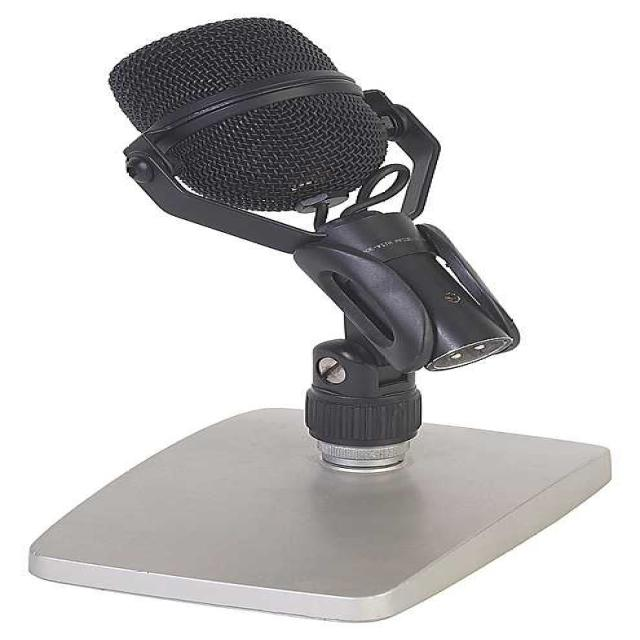microphone: (105, 18, 529, 384)
